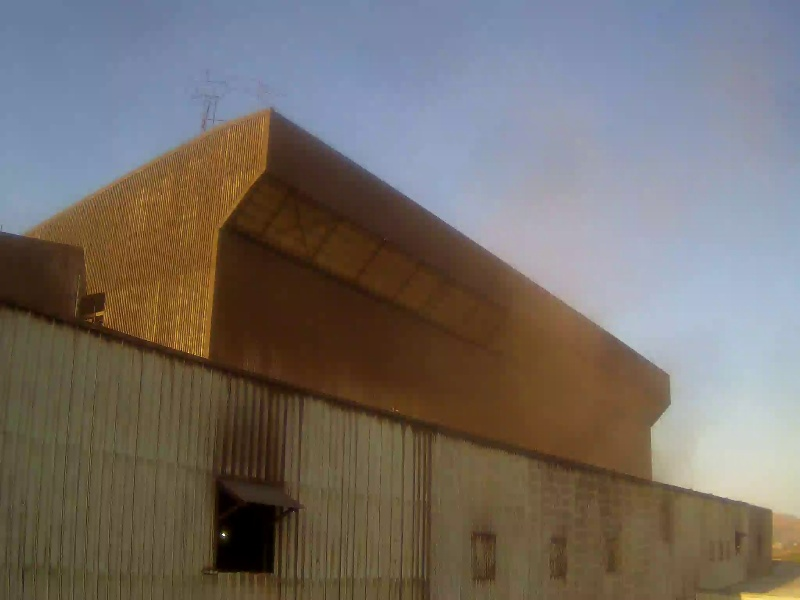ruim: (453, 134, 719, 493)
